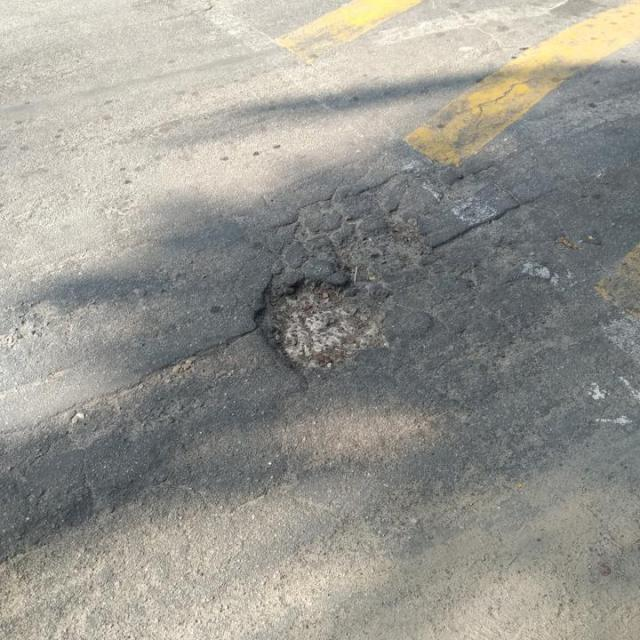pothole: (249, 269, 396, 377), (334, 220, 436, 278), (446, 162, 502, 201)
